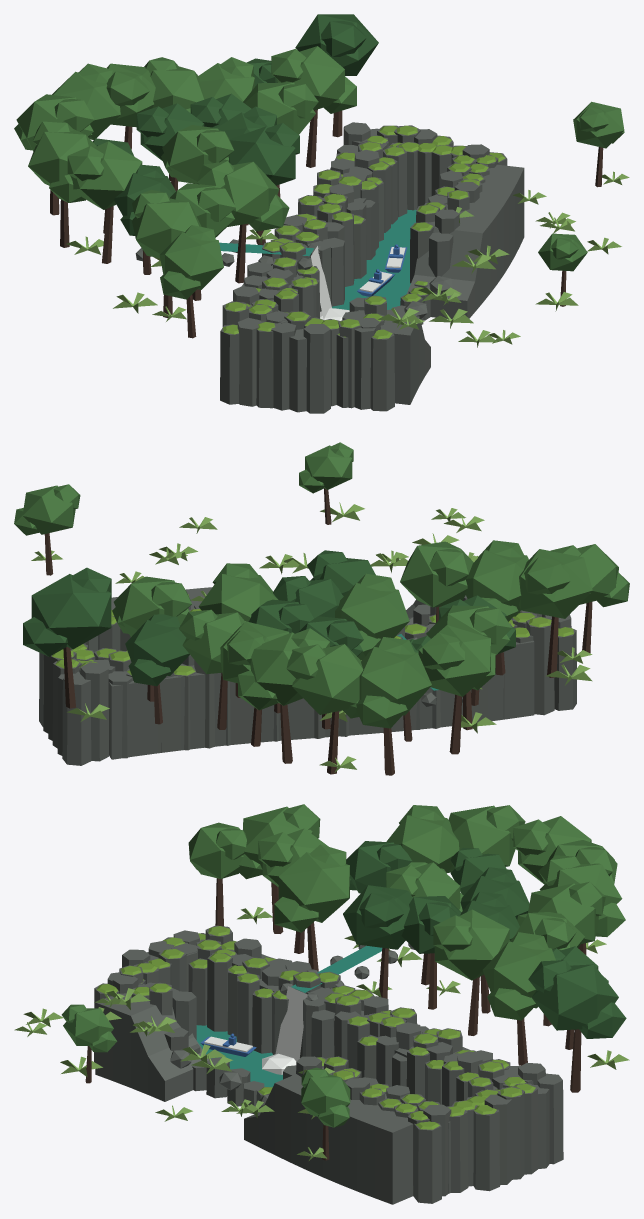
Rendered from takachiho.glb.
The picture shows the model from 3 angles, top to bottom: view 1: azimuth 30°, elevation 25°; view 2: azimuth 150°, elevation 25°; view 3: azimuth 270°, elevation 25°; orthographic projection. The views are drawn at different scales.
Visible parts, largest first — view 1: takachiho_basalt, takachiho_leaf, takachiho_leafdk, takachiho_moss, takachiho_fern, takachiho_bark, takachiho_water, takachiho_foam, takachiho_boat; view 2: takachiho_leaf, takachiho_basalt, takachiho_leafdk, takachiho_bark, takachiho_fern, takachiho_moss; view 3: takachiho_basalt, takachiho_leaf, takachiho_leafdk, takachiho_moss, takachiho_fern, takachiho_bark, takachiho_foam, takachiho_water.
Boxes of the visible parts, box(x1,y1,x2,y2) form: takachiho_basalt: box(135, 122, 524, 413); takachiho_leaf: box(14, 46, 624, 299); takachiho_leafdk: box(92, 14, 378, 235); takachiho_moss: box(223, 125, 505, 339); takachiho_fern: box(66, 122, 629, 347); takachiho_bark: box(50, 109, 603, 338); takachiho_water: box(219, 209, 416, 310); takachiho_foam: box(311, 246, 405, 320); takachiho_boat: box(357, 244, 407, 296); takachiho_leaf: box(14, 442, 629, 728); takachiho_basalt: box(39, 587, 576, 765); takachiho_leafdk: box(23, 550, 515, 686); takachiho_bark: box(44, 488, 592, 775); takachiho_fern: box(31, 502, 592, 772); takachiho_moss: box(52, 594, 573, 675); takachiho_basalt: box(94, 925, 563, 1204); takachiho_leaf: box(61, 804, 625, 1127); takachiho_leafdk: box(343, 841, 626, 1038); takachiho_moss: box(96, 926, 535, 1129); takachiho_fern: box(14, 902, 629, 1160); takachiho_bark: box(85, 878, 586, 1160); takachiho_foam: box(204, 986, 307, 1074); takachiho_water: box(196, 945, 382, 1087).
Bounding box in the file's own units: 21.86 × 7.2 × 21.29.
